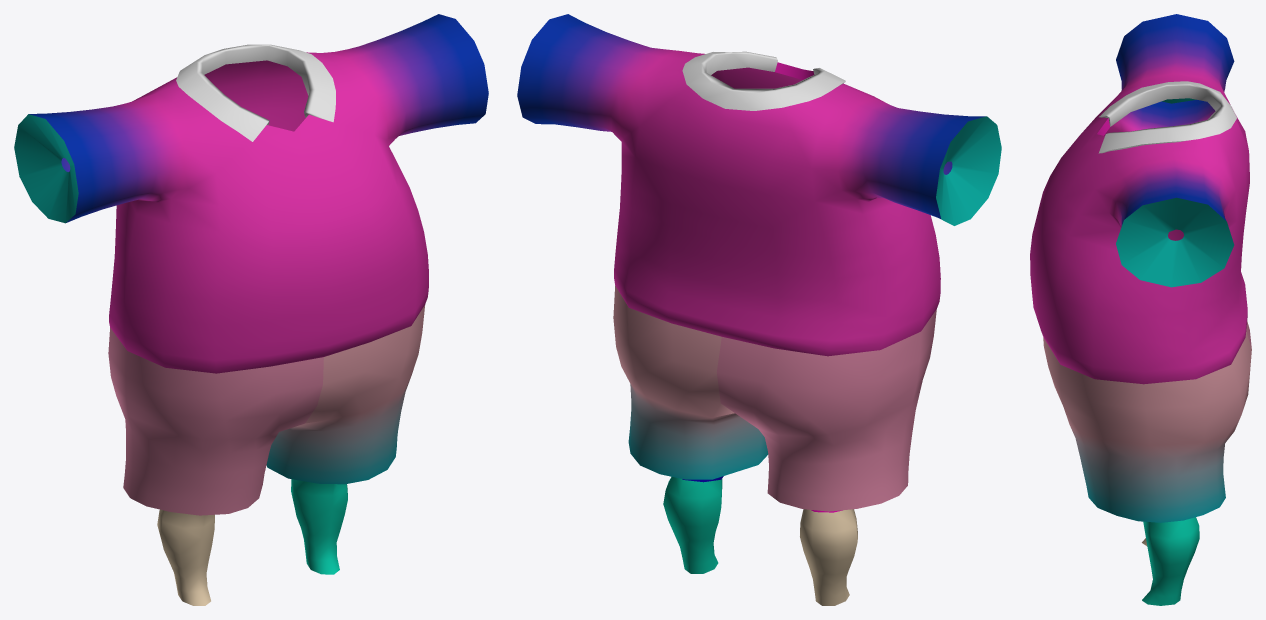
The model's file is 00_Big.fbx.
3 renders of one model, left to right at view 1: azimuth 30°, elevation 25°; view 2: azimuth 150°, elevation 25°; view 3: azimuth 270°, elevation 25°, orthographic. The views are drawn at different scales.
Visible parts, largest first — view 1: u000107_20, u000107_30, collar_10; view 2: u000107_20, u000107_30, collar_10; view 3: u000107_20, u000107_30, collar_10.
Part boxes in pixels (x1,y1,x2,y2): u000107_20: [14, 14, 488, 373]; u000107_30: [108, 305, 424, 605]; collar_10: [176, 44, 335, 141]; u000107_20: [517, 14, 1001, 356]; u000107_30: [613, 286, 936, 605]; collar_10: [682, 51, 845, 110]; u000107_20: [1030, 14, 1249, 384]; u000107_30: [1043, 321, 1251, 605]; collar_10: [1098, 81, 1236, 153].
Bounding box in the file's own units: 141 × 168 × 72.13.
